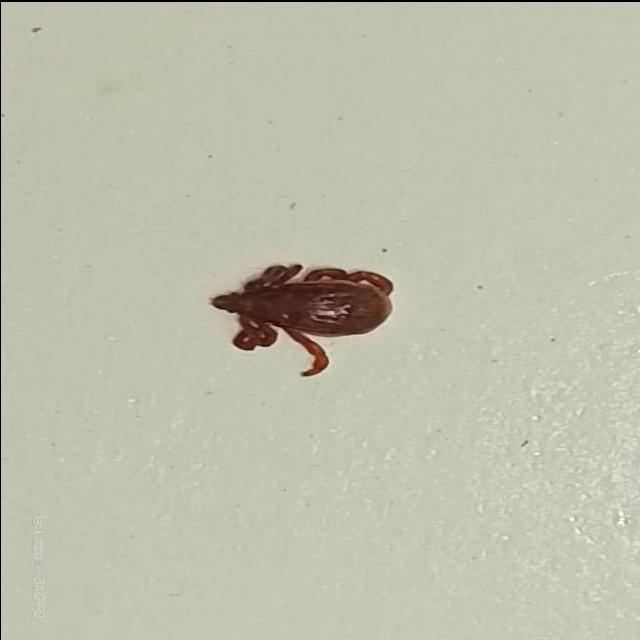Rhipicephalus Sanguineus-M: (207, 260, 391, 375)
